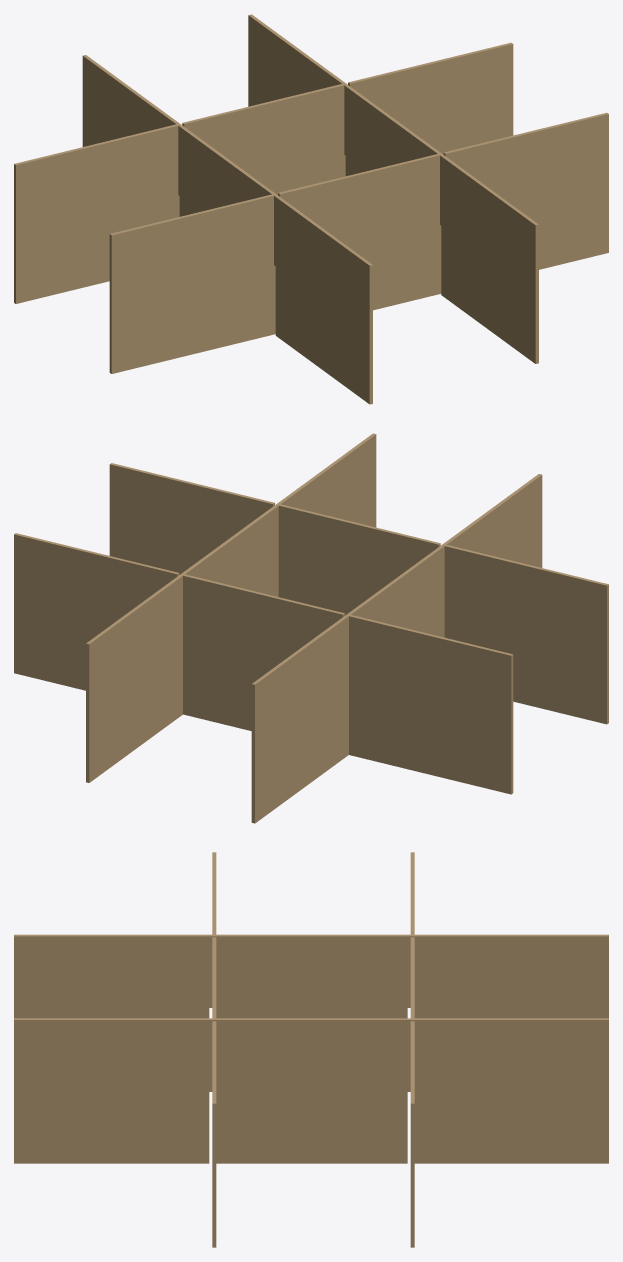
Rendered from paper.glb.
The picture shows the model from 3 angles, top to bottom: view 1: azimuth 30°, elevation 25°; view 2: azimuth 150°, elevation 25°; view 3: azimuth 270°, elevation 25°; orthographic projection. The views are drawn at different scales.
Parts seen in each view (by area): view 1: LongSlottedBoard_1, LongSlottedBoard_-1, CrossSlottedBoard_-1, CrossSlottedBoard_1; view 2: LongSlottedBoard_-1, LongSlottedBoard_1, CrossSlottedBoard_-1, CrossSlottedBoard_1; view 3: CrossSlottedBoard_1, CrossSlottedBoard_-1, LongSlottedBoard_-1, LongSlottedBoard_1.
Part boxes in pixels (left/top/right/bottom): LongSlottedBoard_1: left=109, top=112, right=608, bottom=373; LongSlottedBoard_-1: left=14, top=42, right=513, bottom=303; CrossSlottedBoard_-1: left=82, top=55, right=372, bottom=404; CrossSlottedBoard_1: left=248, top=14, right=538, bottom=363; LongSlottedBoard_-1: left=14, top=533, right=513, bottom=794; LongSlottedBoard_1: left=109, top=463, right=608, bottom=724; CrossSlottedBoard_-1: left=251, top=474, right=542, bottom=823; CrossSlottedBoard_1: left=86, top=433, right=376, bottom=782; CrossSlottedBoard_1: left=14, top=1018, right=608, bottom=1163; CrossSlottedBoard_-1: left=14, top=934, right=608, bottom=1018; LongSlottedBoard_-1: left=410, top=852, right=414, bottom=1247; LongSlottedBoard_1: left=212, top=852, right=216, bottom=1247.
Size of the model in its own units: 0.3 by 0.08 by 0.3.
